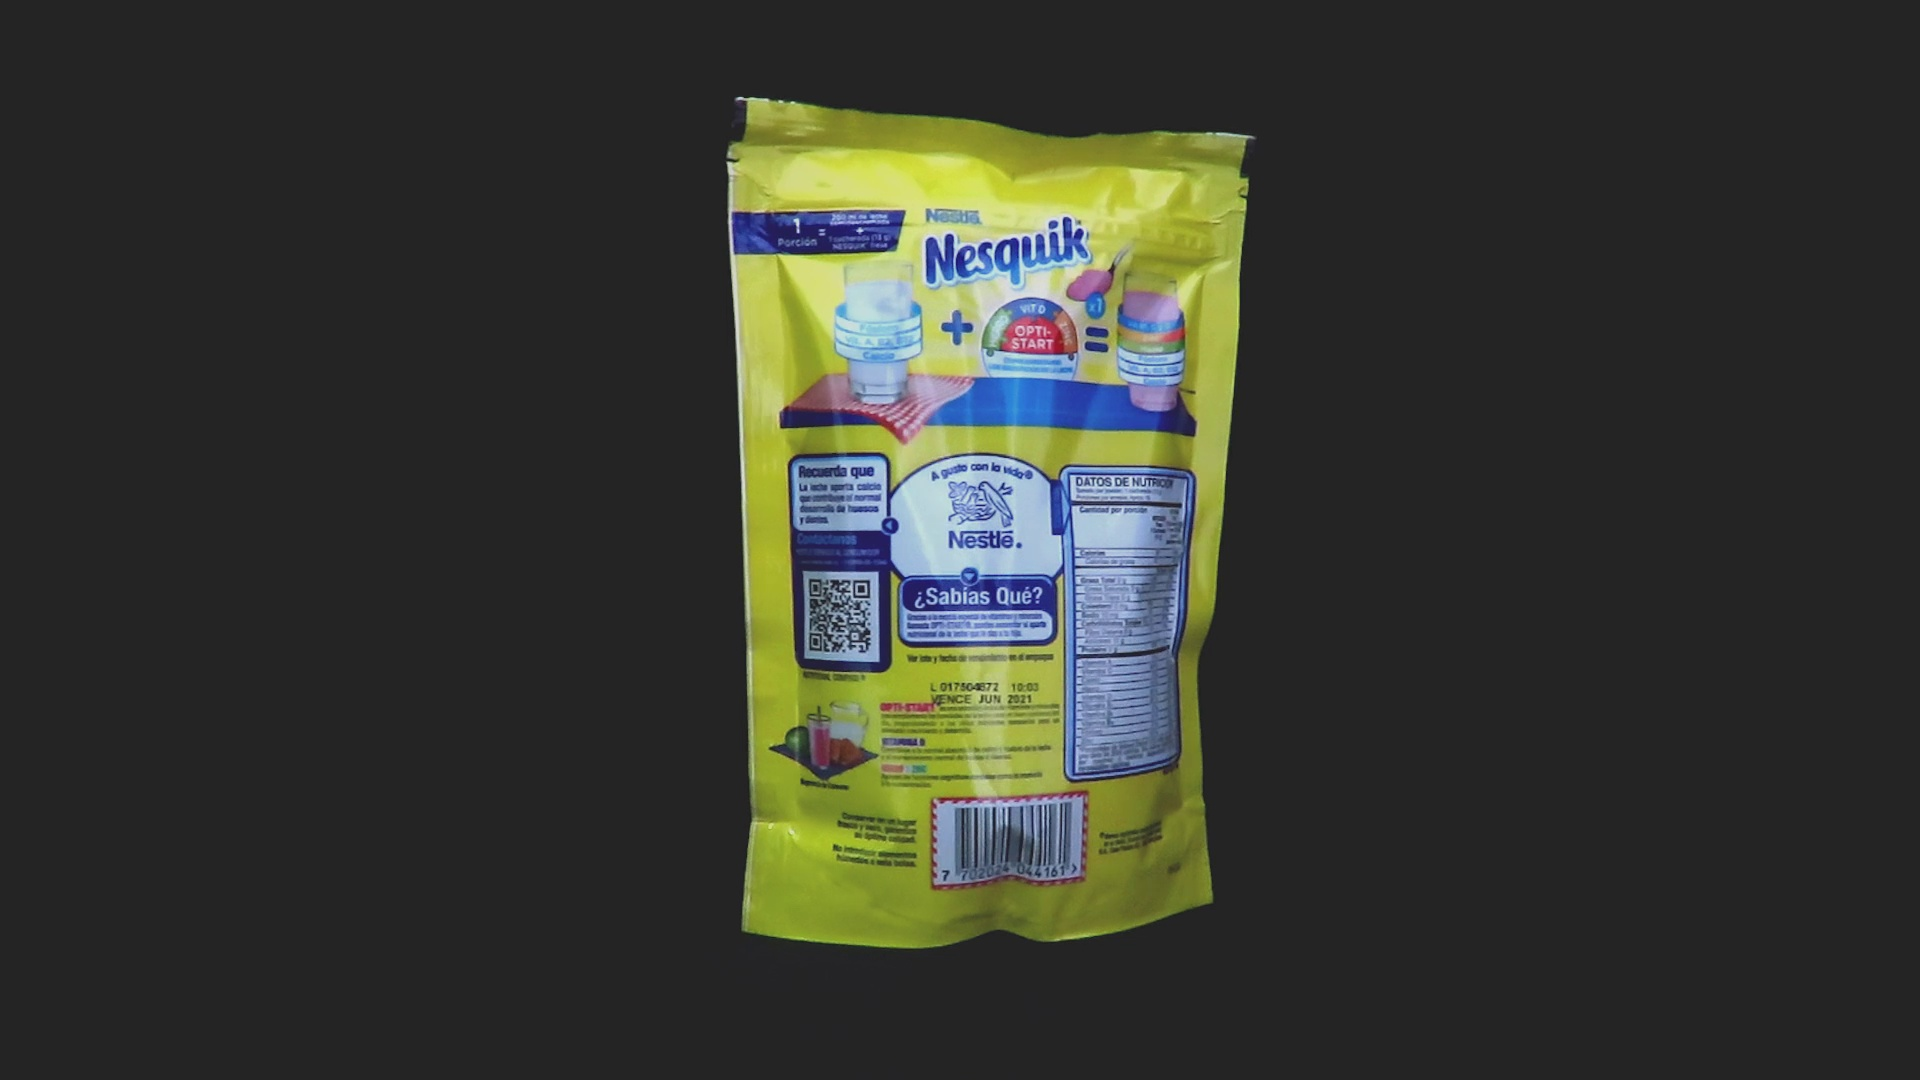COL0170305DYP20000: (721, 91, 1262, 955)
